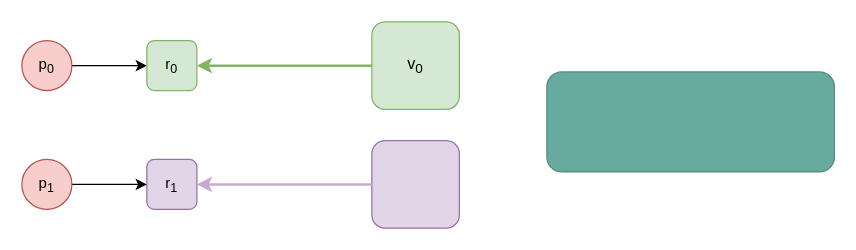
The diagram is 856 pixels wide and 250 high, and some of its shapes have lost their labels. The centre of each missing label's shape, as x and y in pixels:
"p i : instance/process i r i : global replica i v i : variable data, group i" belongs at point 690,121.
"v 1" belongs at point 415,183.
